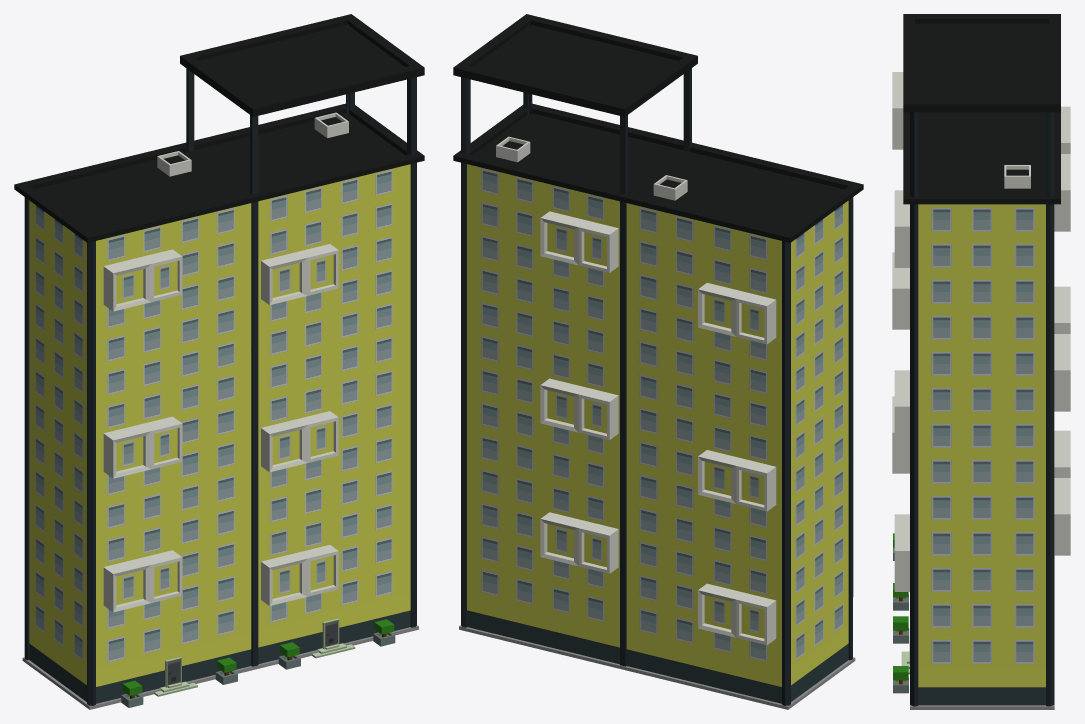
The model's file is apartment_1.glb.
The picture shows the model from 3 angles, left to right: view 1: azimuth 30°, elevation 25°; view 2: azimuth 150°, elevation 25°; view 3: azimuth 270°, elevation 25°; orthographic projection. The views are drawn at different scales.
Visible parts, largest first — view 1: Pair House Yellow High; view 2: Pair House Yellow High; view 3: Pair House Yellow High.
Part boxes in pixels (x1,y1,x2,y2): Pair House Yellow High: [14, 14, 424, 709]; Pair House Yellow High: [453, 14, 863, 709]; Pair House Yellow High: [892, 14, 1070, 709].
Bounding box in the file's own units: 1.07 × 1.71 × 0.4556.
1 material, 1 textured.
